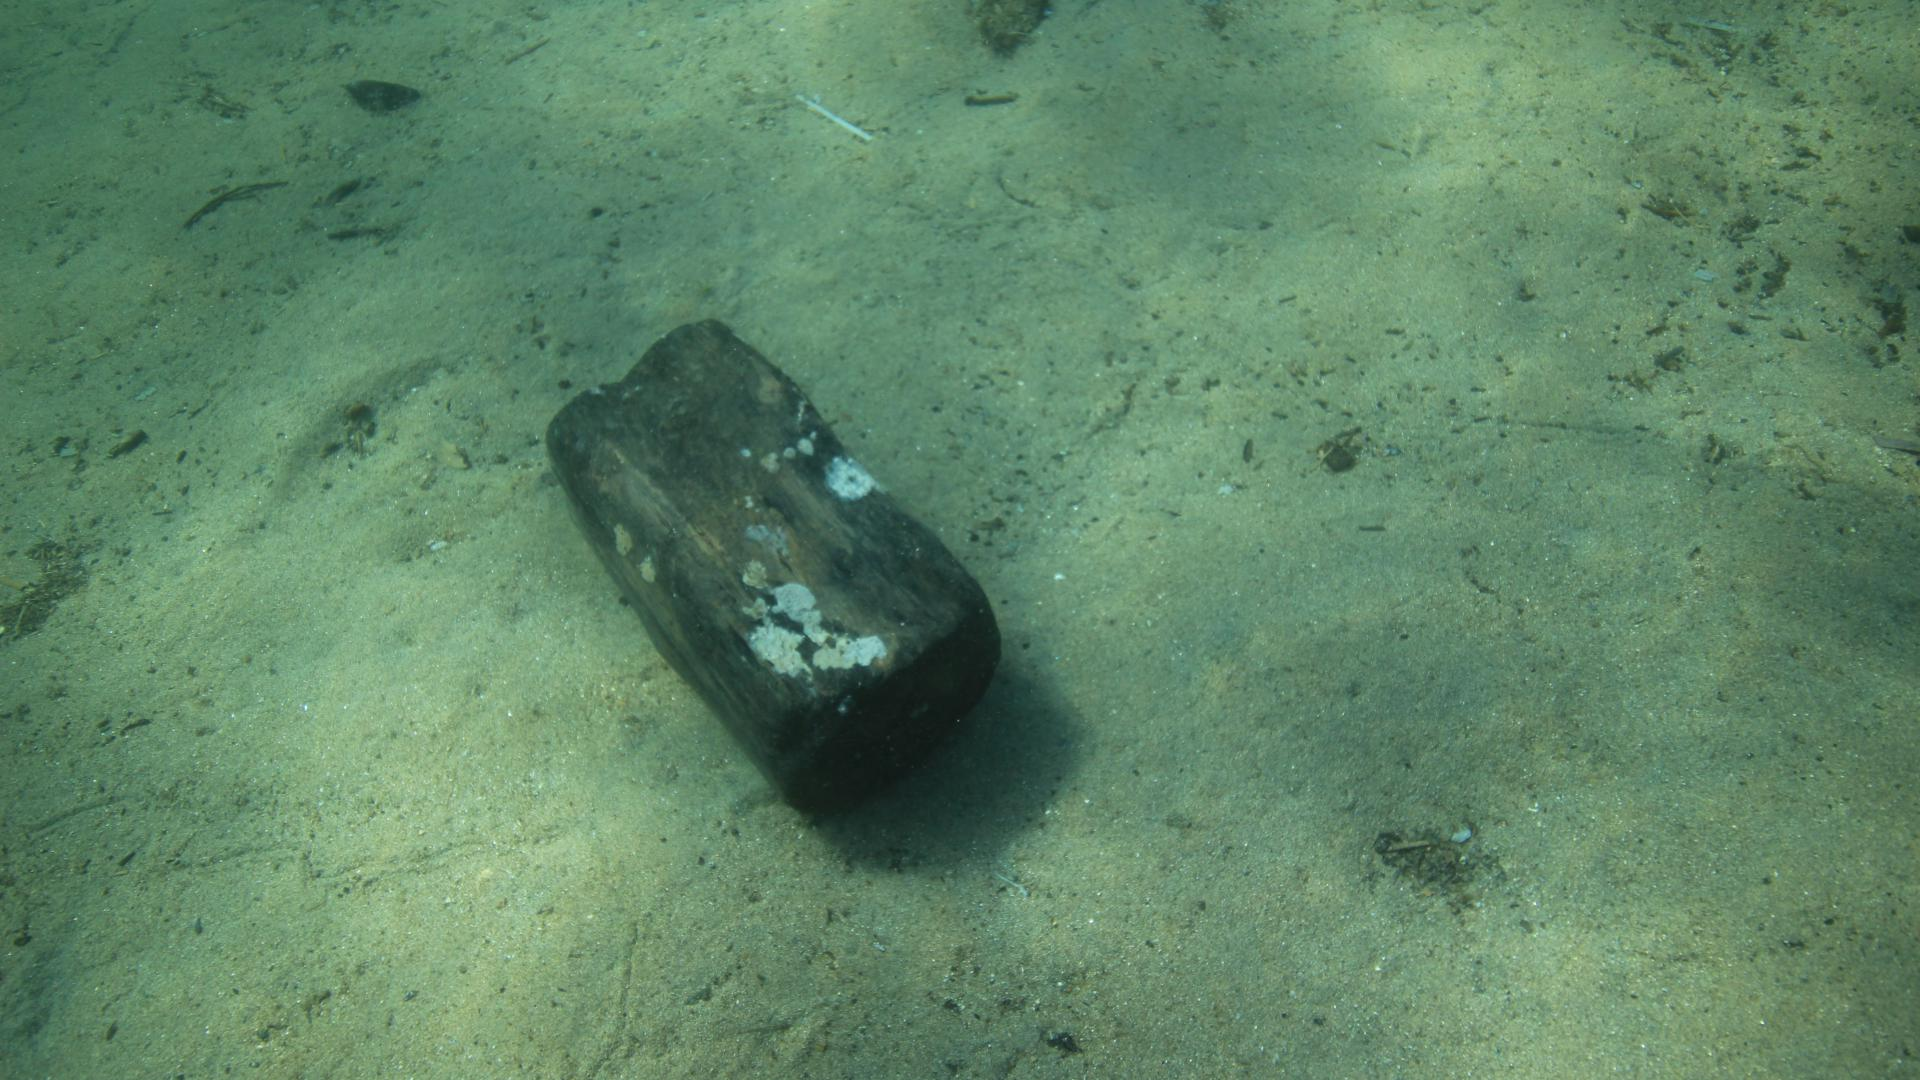wood: (545, 316, 1002, 814)
